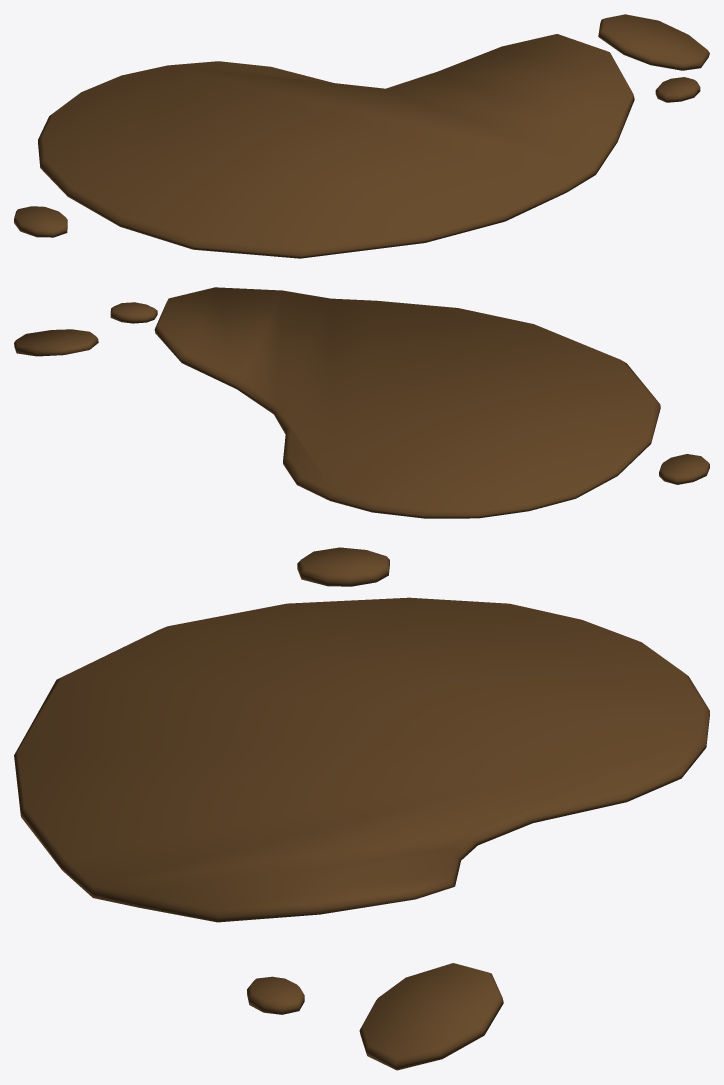
The model's file is lama03.fbx.
3 views of the same model, one above another, from view 1: azimuth 30°, elevation 25°; view 2: azimuth 150°, elevation 25°; view 3: azimuth 270°, elevation 25° (orthographic). The views are drawn at different scales.
Parts seen in each view (by area): view 1: poça_lama; view 2: poça_lama; view 3: poça_lama.
Boxes of the visible parts, bbox=[...] form: poça_lama: bbox=[14, 14, 709, 258]; poça_lama: bbox=[14, 287, 709, 518]; poça_lama: bbox=[14, 547, 709, 1070].
Bounding box in the file's own units: 883 × 524 × 66.57.
